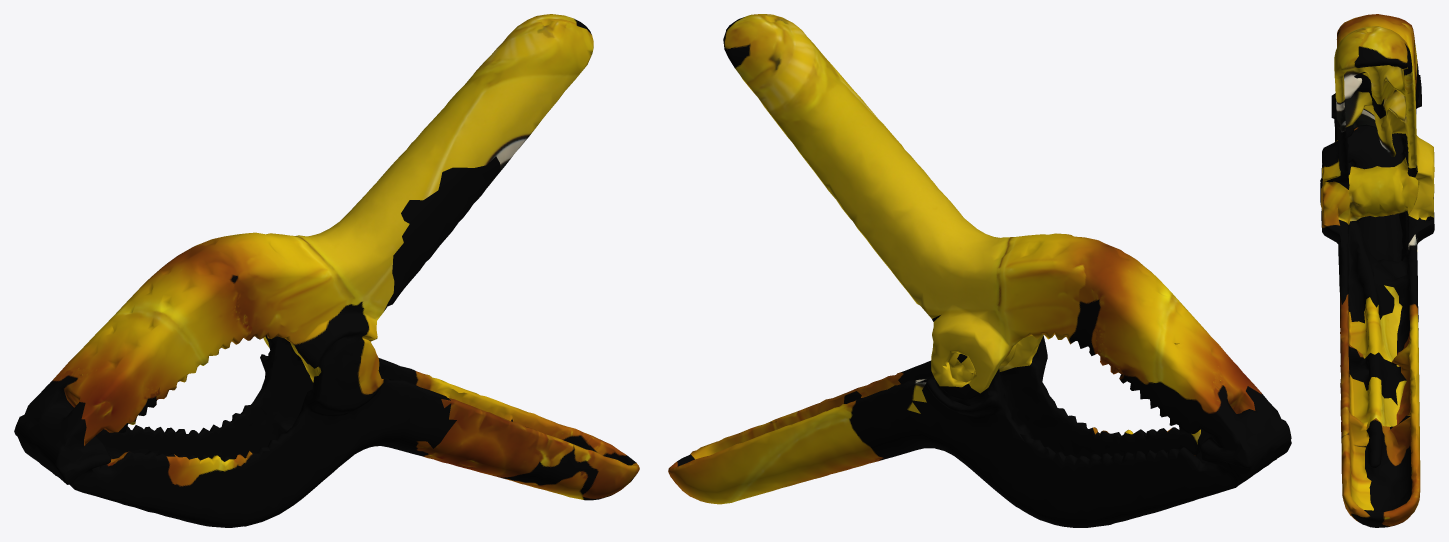
3 renders of one model, left to right at view 1: azimuth 30°, elevation 25°; view 2: azimuth 150°, elevation 25°; view 3: azimuth 270°, elevation 25°, orthographic. The views are drawn at different scales.
Bounding box in the file's own units: 0.21 × 0.1643 × 0.0363.
